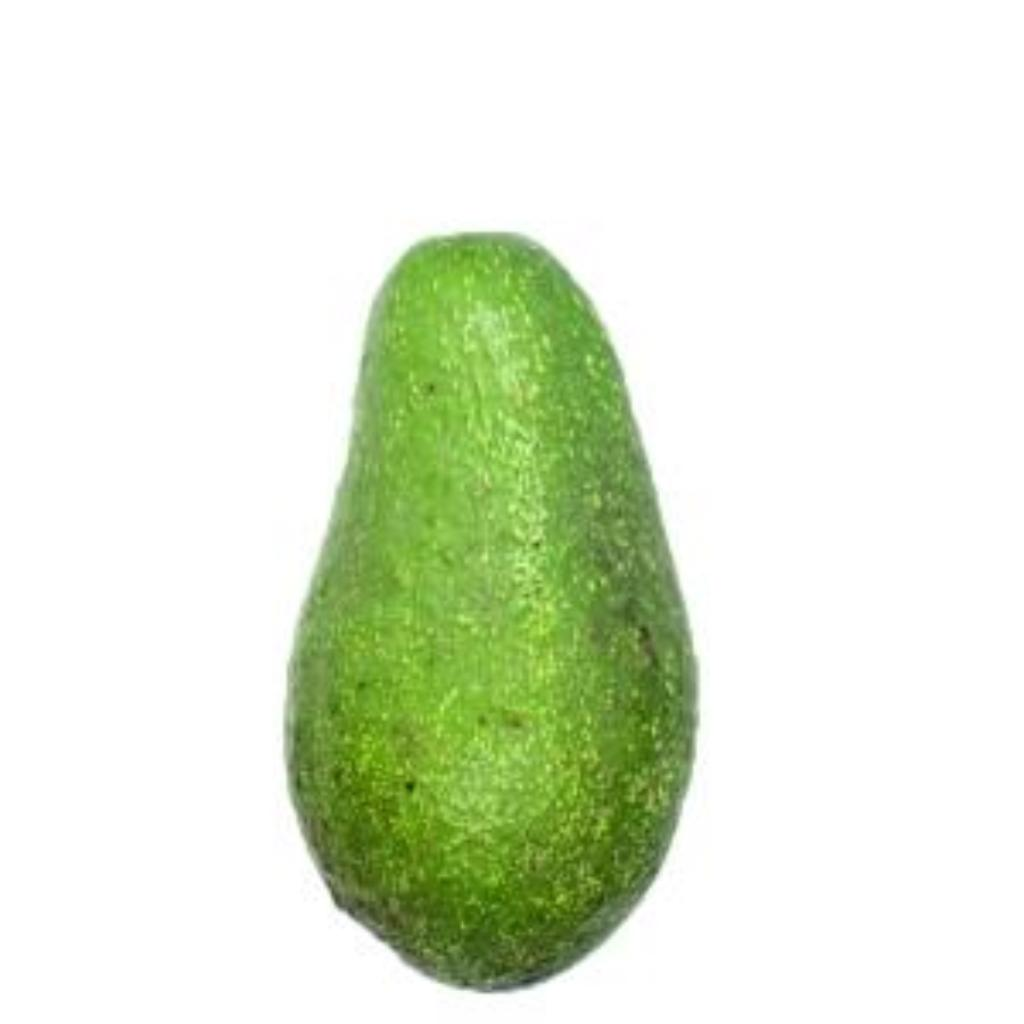cercospora: (245, 223, 730, 1008)
